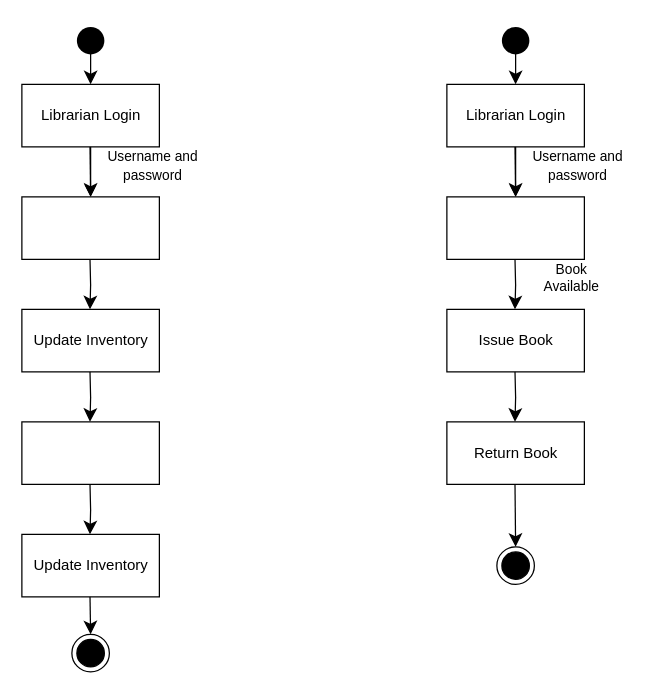
This 656x694 diagram has some shape labels left out. Here are the shapes that lost their labels. From the top down, the centre of each, then its label:
At [90,227]: "Add Book".
At [515,227]: "Check Availability of book".
At [90,452]: "Delete Book".
